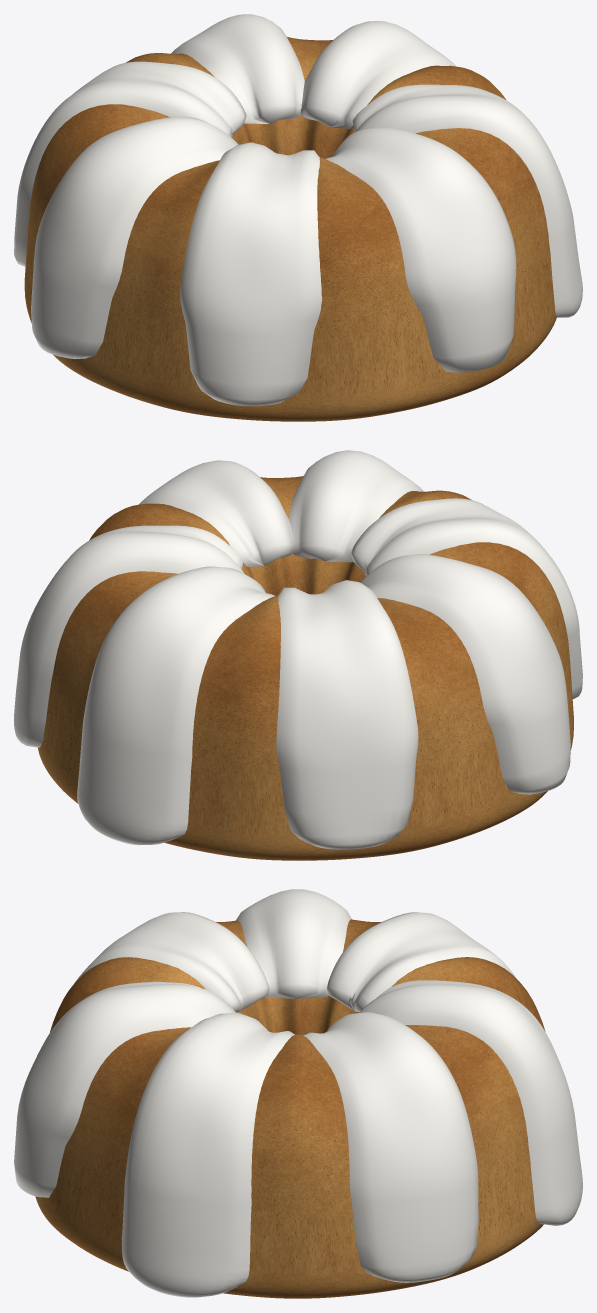
File: bundt_vanilla_6.glb
The picture shows the model from 3 angles, top to bottom: view 1: azimuth 30°, elevation 25°; view 2: azimuth 150°, elevation 25°; view 3: azimuth 270°, elevation 25°; orthographic projection.
Visible parts, largest first — view 1: cake.001, frosting.004, frosting.005, frosting.003, frosting.006, frosting.002, frosting, frosting.001; view 2: cake.001, frosting.002, frosting.001, frosting.003, frosting, frosting.004, frosting.005, frosting.006; view 3: cake.001, frosting.006, frosting, frosting.001, frosting.005, frosting.003, frosting.004, frosting.002.
Part boxes in pixels (bbox=[...]): cake.001: bbox=[24, 37, 556, 421]; frosting.004: bbox=[180, 142, 321, 406]; frosting.005: bbox=[326, 127, 516, 372]; frosting.003: bbox=[31, 116, 238, 358]; frosting.006: bbox=[352, 84, 582, 317]; frosting.002: bbox=[14, 61, 246, 266]; frosting: bbox=[300, 21, 456, 128]; frosting.001: bbox=[171, 14, 304, 123]; cake.001: bbox=[38, 476, 573, 860]; frosting.002: bbox=[276, 580, 418, 849]; frosting.001: bbox=[77, 566, 274, 845]; frosting.003: bbox=[361, 554, 570, 794]; frosting: bbox=[14, 525, 244, 747]; frosting.004: bbox=[350, 498, 582, 698]; frosting.005: bbox=[288, 450, 423, 562]; frosting.006: bbox=[139, 460, 293, 566]; cake.001: bbox=[35, 919, 545, 1298]; frosting.006: bbox=[122, 1012, 294, 1297]; frosting: bbox=[303, 1012, 478, 1282]; frosting.001: bbox=[360, 980, 582, 1225]; frosting.005: bbox=[14, 981, 235, 1197]; frosting.003: bbox=[236, 889, 351, 998]; frosting.004: bbox=[75, 912, 269, 1012]; frosting.002: bbox=[326, 912, 516, 1012].
Size of the model in its own units: 0.1642 by 0.0732 by 0.1659.
Materials: 2 (1 with a texture image).
